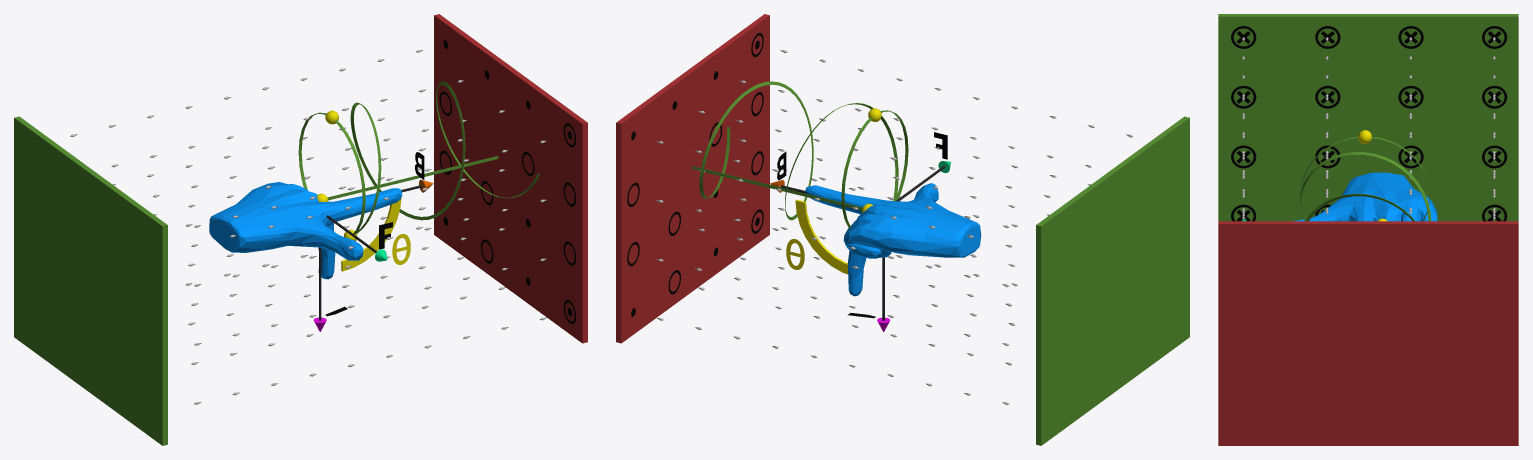
Rendered from modelo.glb.
3 views of the same model, side by side, from view 1: azimuth 30°, elevation 25°; view 2: azimuth 150°, elevation 25°; view 3: azimuth 270°, elevation 25° (orthographic).
Parts seen in each view (by area): view 1: magnet, hand, field, Helix002, arrows, transf_90, Circle002, Line002; view 2: magnet, hand, field, Helix002, arrows, transf_dif, Circle002, transf_90, Line002; view 3: magnet, hand, Helix002, field, Circle002.
Boxes of the visible parts, left/top/right/bottom form: magnet: left=14, top=14, right=587, bottom=445; hand: left=209, top=182, right=402, bottom=279; field: left=70, top=50, right=546, bottom=404; Helix002: left=350, top=81, right=539, bottom=234; arrows: left=313, top=152, right=433, bottom=331; transf_90: left=341, top=199, right=410, bottom=271; Circle002: left=298, top=112, right=365, bottom=233; Line002: left=327, top=156, right=498, bottom=200; magnet: left=616, top=14, right=1189, bottom=445; hand: left=805, top=183, right=981, bottom=296; field: left=656, top=50, right=1133, bottom=404; Helix002: left=699, top=81, right=898, bottom=220; arrows: left=770, top=132, right=950, bottom=331; transf_dif: left=786, top=199, right=820, bottom=269; Circle002: left=841, top=110, right=908, bottom=228; transf_90: left=786, top=202, right=847, bottom=274; Line002: left=692, top=166, right=862, bottom=210; magnet: left=1218, top=14, right=1518, bottom=445; hand: left=1292, top=172, right=1437, bottom=221; Helix002: left=1300, top=152, right=1431, bottom=221; field: left=1242, top=37, right=1495, bottom=219; Circle002: left=1300, top=137, right=1430, bottom=221.
Size of the model in its own units: 4.6 by 2.3 by 2.78.
